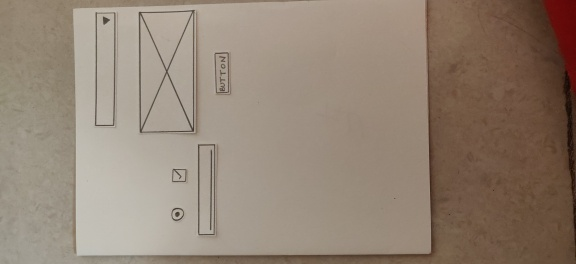button: (210, 50, 234, 97)
checkbox: (168, 167, 189, 186)
dropdown: (91, 9, 120, 131)
img: (135, 7, 199, 137)
radio: (167, 206, 187, 222)
text: (194, 141, 220, 239)
